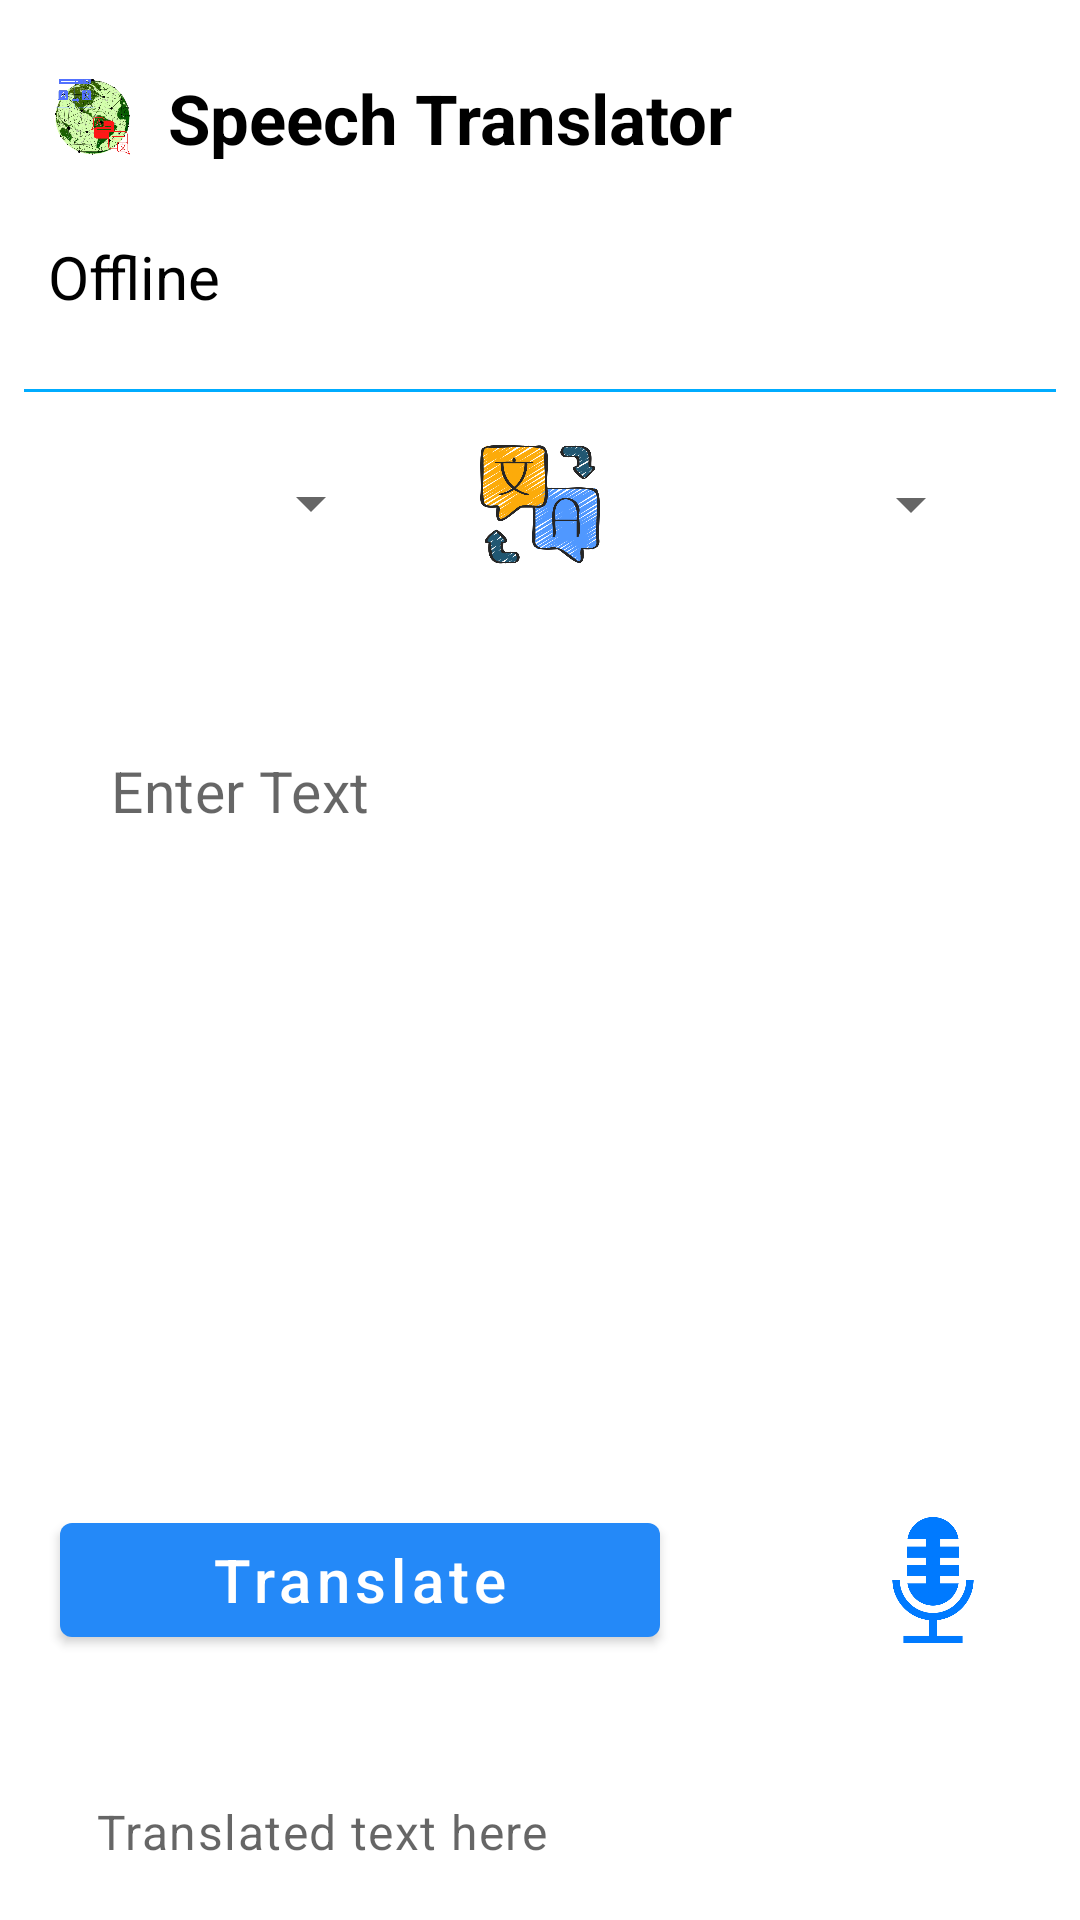

Icons on this 1080 × 1920 Android screen, each with its box as bbox=(x1, y1, x2, y2):
exchange: bbox=(480, 445, 600, 564)
voice: bbox=(892, 1517, 974, 1643)
